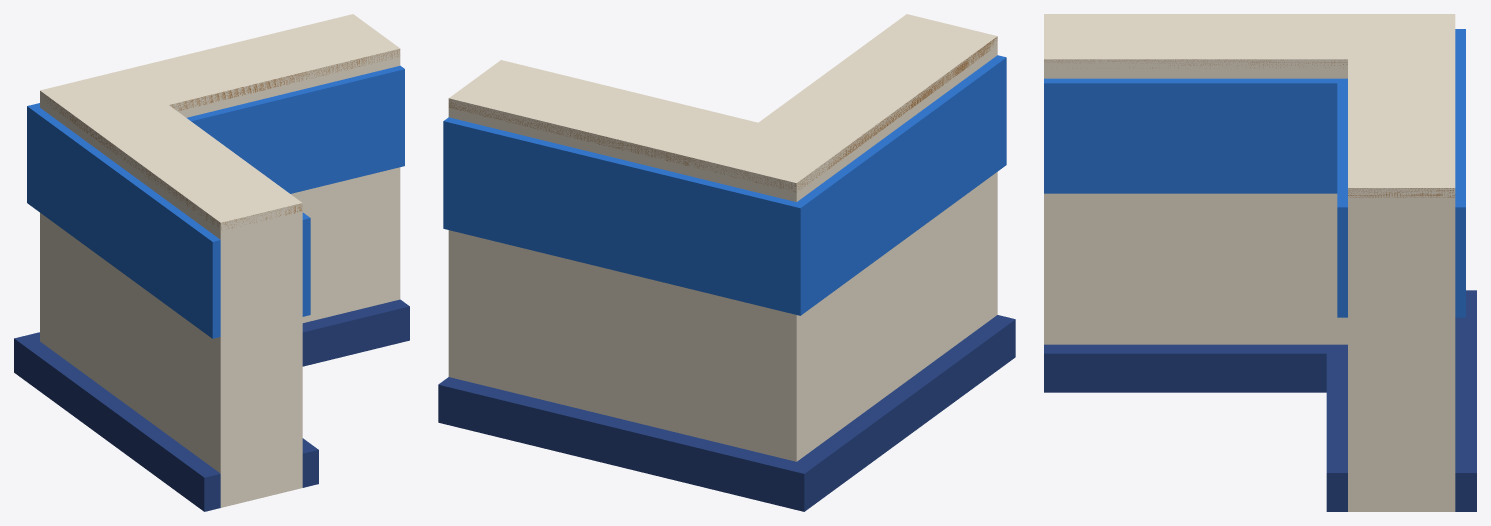
File: partition-elbow.glb
3 views of the same model, side by side, from view 1: azimuth 30°, elevation 25°; view 2: azimuth 150°, elevation 25°; view 3: azimuth 270°, elevation 25° (orthographic). The views are drawn at different scales.
Parts seen in each view (by area): view 1: partition-elbow; view 2: partition-elbow; view 3: partition-elbow.
Boxes of the visible parts, x1,y1,x2,y2 form: partition-elbow: (14,14,409,511); partition-elbow: (438,14,1015,511); partition-elbow: (1044,14,1476,511).
Size of the model in its own units: 0.605 by 0.5 by 0.605.
1 material, 1 textured.
